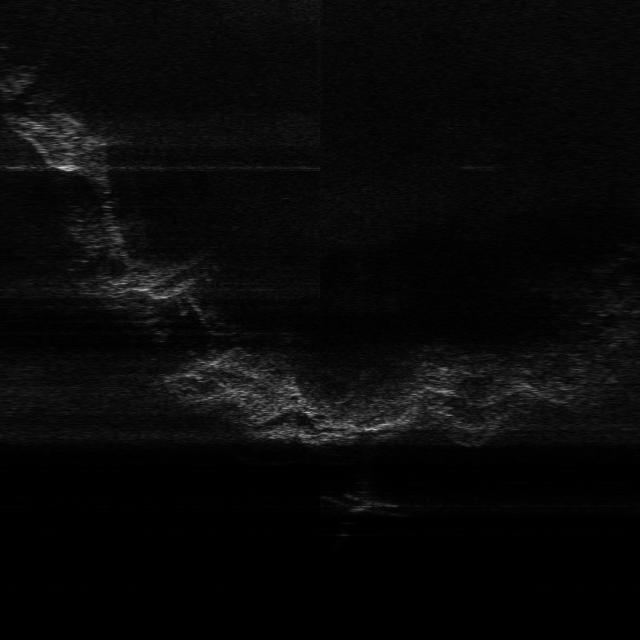plane: (318, 489, 407, 519)
